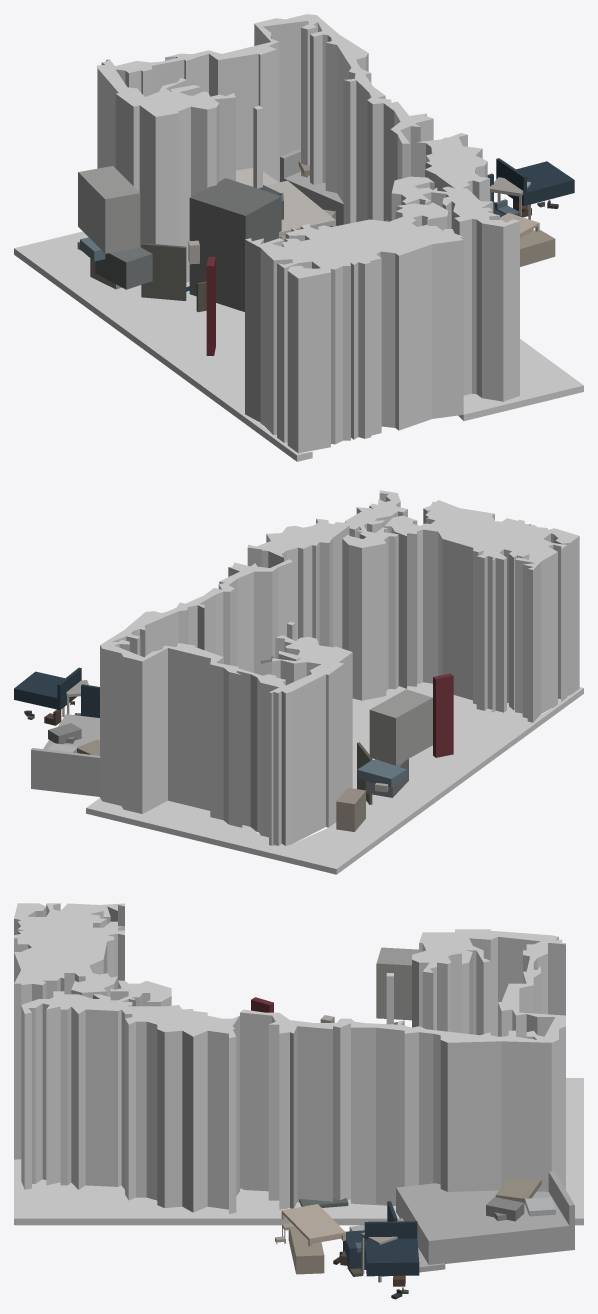
The model's file is 02_modular_home.glb.
3 renders of one model, top to bottom at view 1: azimuth 30°, elevation 25°; view 2: azimuth 150°, elevation 25°; view 3: azimuth 270°, elevation 25°, orthographic. The views are drawn at different scales.
Visible parts, largest first — view 1: wall_3, wall_0, floor, wall_2, refrigerator_0/visual/part_0, mirror_0/visual/part_0, refrigerator_2/visual/part_0, sink_2/visual/part_0, table_0/visual/part_0, chair_4/visual/part_0, bed_0/visual/part_0, bench_1/visual/part_0 (+2 smaller); view 2: wall_0, wall_3, floor, wall_2, mirror_0/visual/part_0, bed_0/visual/part_1, broom_0/visual/part_0, chair_4/visual/part_0, toilet_0/visual/part_0, towel_2/visual/part_0, bed_0/visual/part_0, towel_0/visual/part_0 (+1 smaller); view 3: wall_0, wall_2, floor, wall_3, bed_0/visual/part_0, mirror_0/visual/part_0, chair_4/visual/part_0, table_2/visual/part_0, bench_1/visual/part_0, bed_0/visual/part_1, chair_4/visual/part_1, pillow_0/visual/part_0 (+3 smaller).
Boxes of the visible parts, left/top/right/bottom form: wall_3: left=245, top=202, right=463, bottom=453; wall_0: left=97, top=14, right=433, bottom=282; floor: left=14, top=225, right=583, bottom=461; wall_2: left=391, top=133, right=519, bottom=401; refrigerator_0/visual/part_0: left=189, top=178, right=281, bottom=311; mirror_0/visual/part_0: left=78, top=166, right=140, bottom=253; refrigerator_2/visual/part_0: left=141, top=243, right=186, bottom=300; sink_2/visual/part_0: left=95, top=247, right=152, bottom=289; table_0/visual/part_0: left=265, top=180, right=335, bottom=237; chair_4/visual/part_0: left=496, top=161, right=574, bottom=205; bed_0/visual/part_0: left=284, top=171, right=343, bottom=225; bench_1/visual/part_0: left=520, top=230, right=555, bottom=266; wall_0: left=100, top=559, right=352, bottom=845; wall_3: left=384, top=500, right=579, bottom=722; floor: left=86, top=682, right=583, bottom=874; wall_2: left=247, top=490, right=407, bottom=700; mirror_0/visual/part_0: left=369, top=689, right=432, bottom=765; bed_0/visual/part_1: left=31, top=748, right=100, bottom=796; broom_0/visual/part_0: left=433, top=673, right=453, bottom=757; chair_4/visual/part_0: left=14, top=671, right=76, bottom=709; toilet_0/visual/part_0: left=336, top=788, right=365, bottom=831; towel_2/visual/part_0: left=357, top=760, right=406, bottom=787; bed_0/visual/part_0: left=43, top=714, right=99, bottom=753; towel_0/visual/part_0: left=48, top=723, right=81, bottom=744; wall_0: left=240, top=929, right=565, bottom=1209; wall_2: left=21, top=980, right=239, bottom=1213; floor: left=14, top=1078, right=583, bottom=1225; wall_3: left=14, top=903, right=124, bottom=1159; bed_0/visual/part_0: left=396, top=1183, right=569, bottom=1264; mirror_0/visual/part_0: left=376, top=947, right=418, bottom=1020; chair_4/visual/part_0: left=364, top=1238, right=419, bottom=1276; table_2/visual/part_0: left=281, top=1204, right=345, bottom=1241; bench_1/visual/part_0: left=288, top=1222, right=324, bottom=1274; bed_0/visual/part_1: left=548, top=1171, right=574, bottom=1250; chair_4/visual/part_1: left=364, top=1221, right=417, bottom=1239; pillow_0/visual/part_0: left=495, top=1178, right=541, bottom=1203.
Size of what is drawn, in the model's own units: 7.49 by 2.81 by 7.95.
